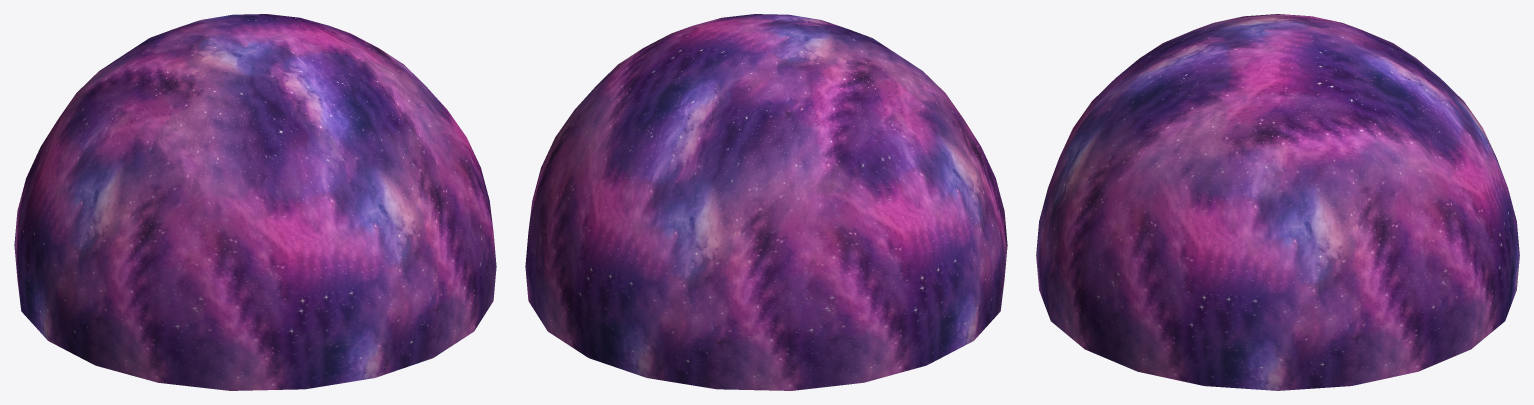
Rendered from 010_Stage.fbx.
The picture shows the model from 3 angles, left to right: view 1: azimuth 30°, elevation 25°; view 2: azimuth 150°, elevation 25°; view 3: azimuth 270°, elevation 25°; orthographic projection.
Parts seen in each view (by area): view 1: AS; view 2: AS; view 3: AS.
Part boxes in pixels (x1,y1,x2,y2): AS: [14, 14, 496, 390]; AS: [525, 14, 1007, 390]; AS: [1036, 14, 1519, 390].
Bounding box in the file's own units: 102 × 58.82 × 102.
3 materials, 3 textured.
